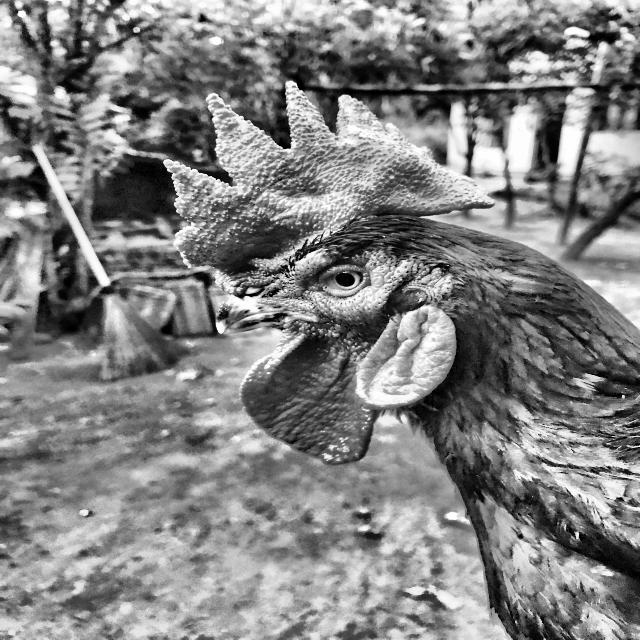Coryza: (119, 81, 607, 480)
